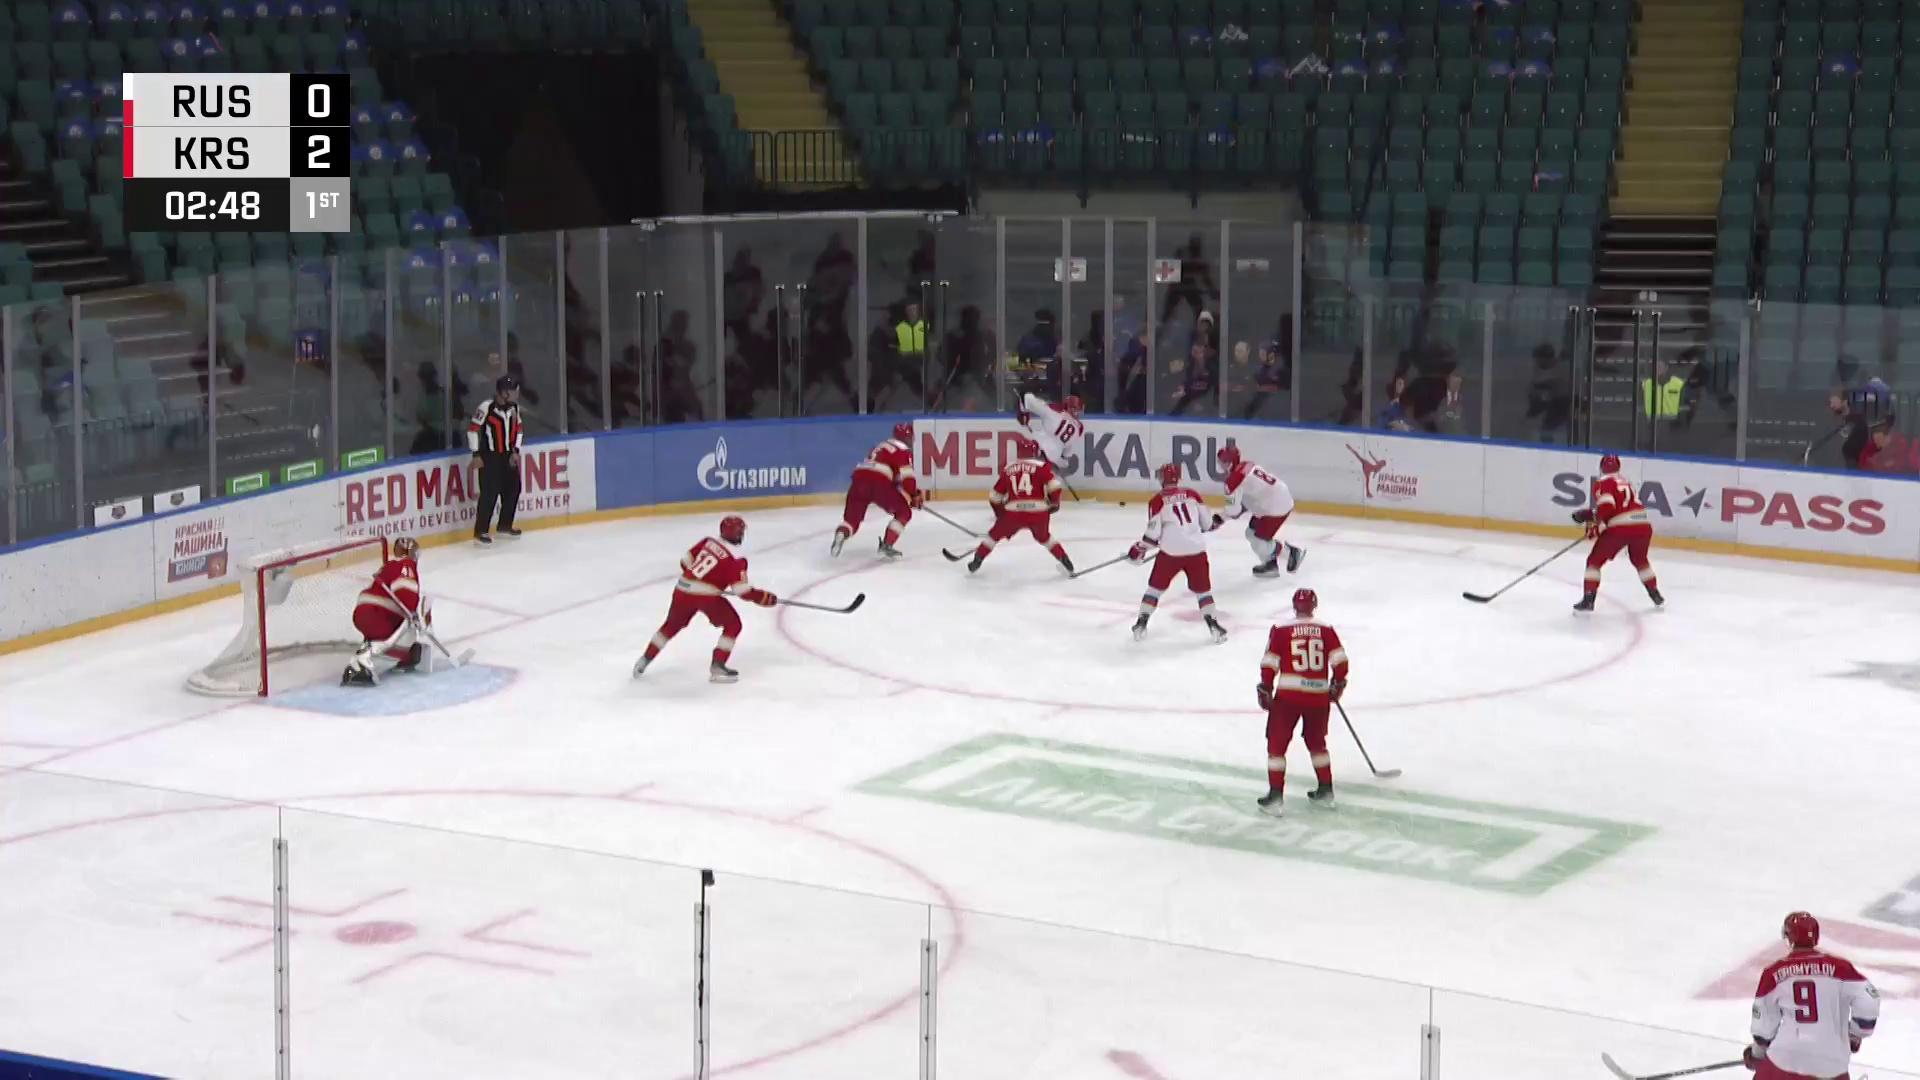ball: (1116, 500, 1129, 508)
